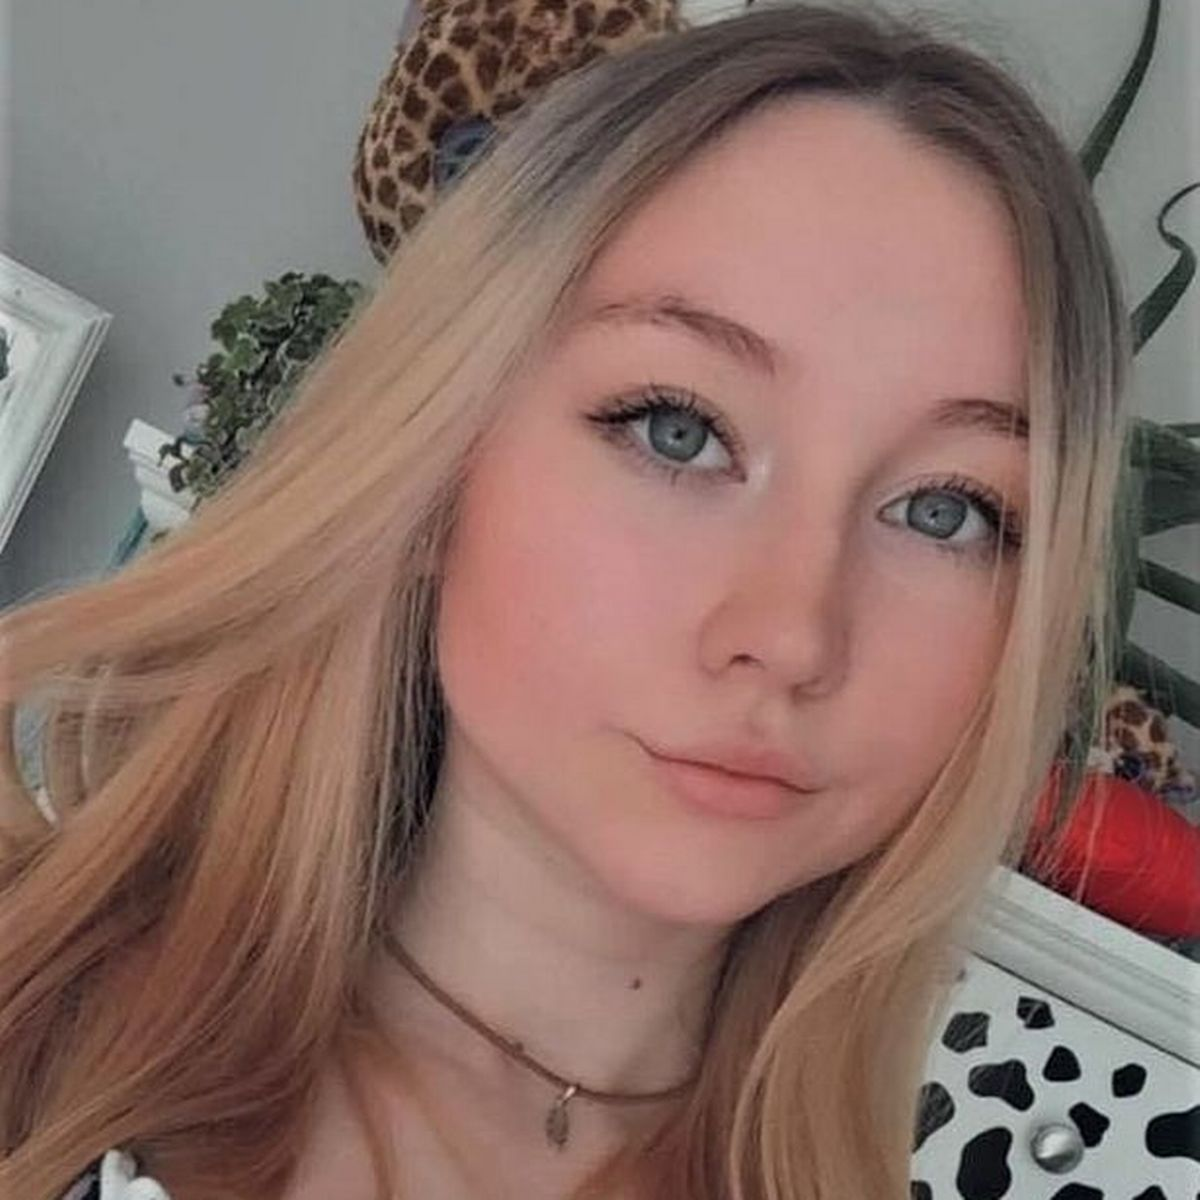NoMask: (507, 283, 1018, 925)
